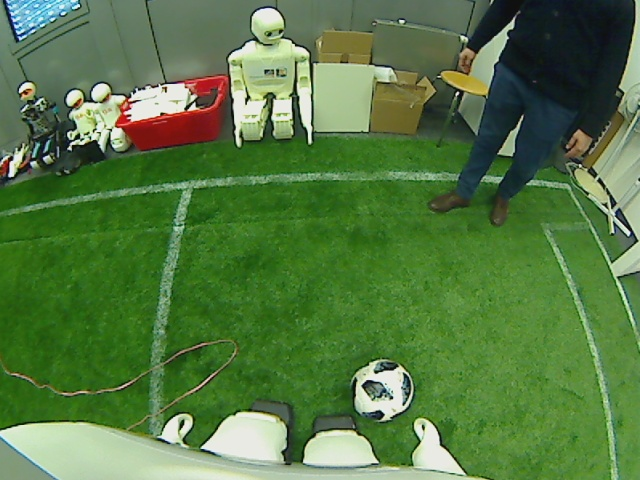ball: (350, 357, 414, 422)
